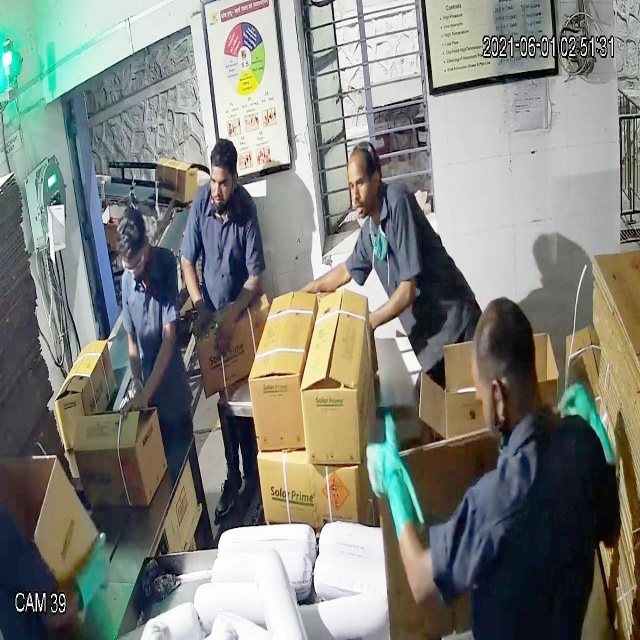Gafas: (119, 245, 152, 284)
Sin_gafas: (343, 166, 387, 203)
